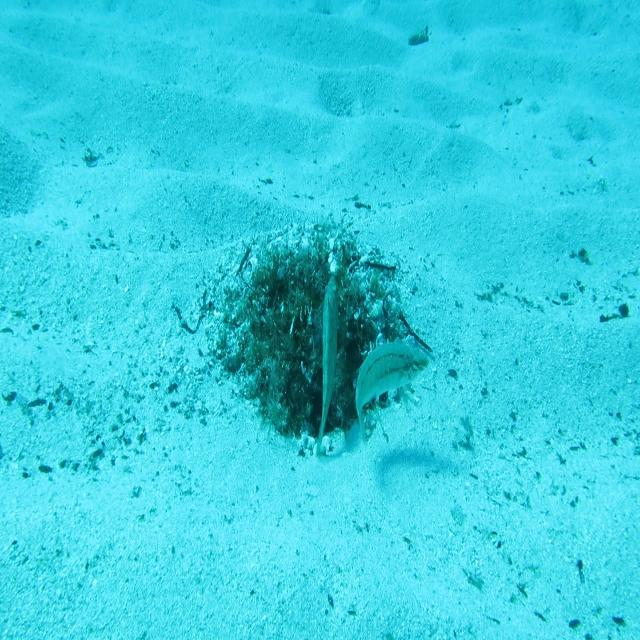FAN: (311, 272, 344, 464)
core_nest: (296, 268, 352, 318)
female: (354, 335, 431, 461)
nest: (206, 216, 430, 466)
vegetation: (407, 26, 431, 47)
